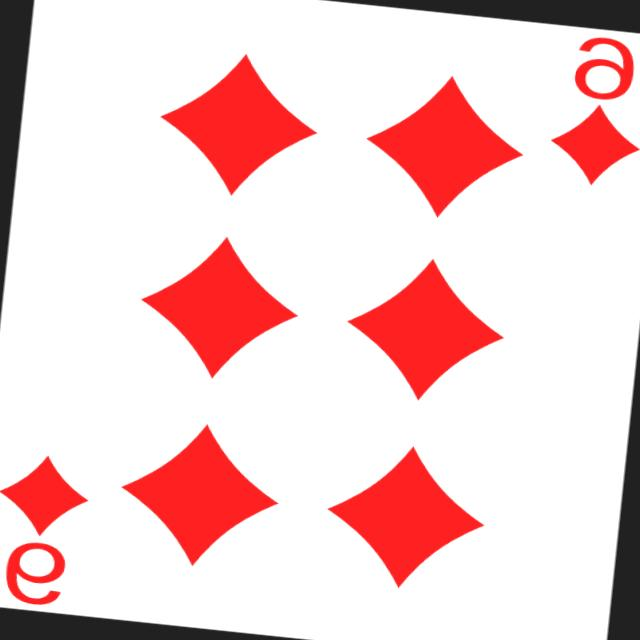Diamond: (318, 436, 491, 597), (151, 45, 325, 205), (337, 250, 511, 410), (132, 227, 306, 387), (112, 413, 284, 574), (358, 66, 530, 226), (544, 99, 640, 189), (0, 449, 92, 541)
